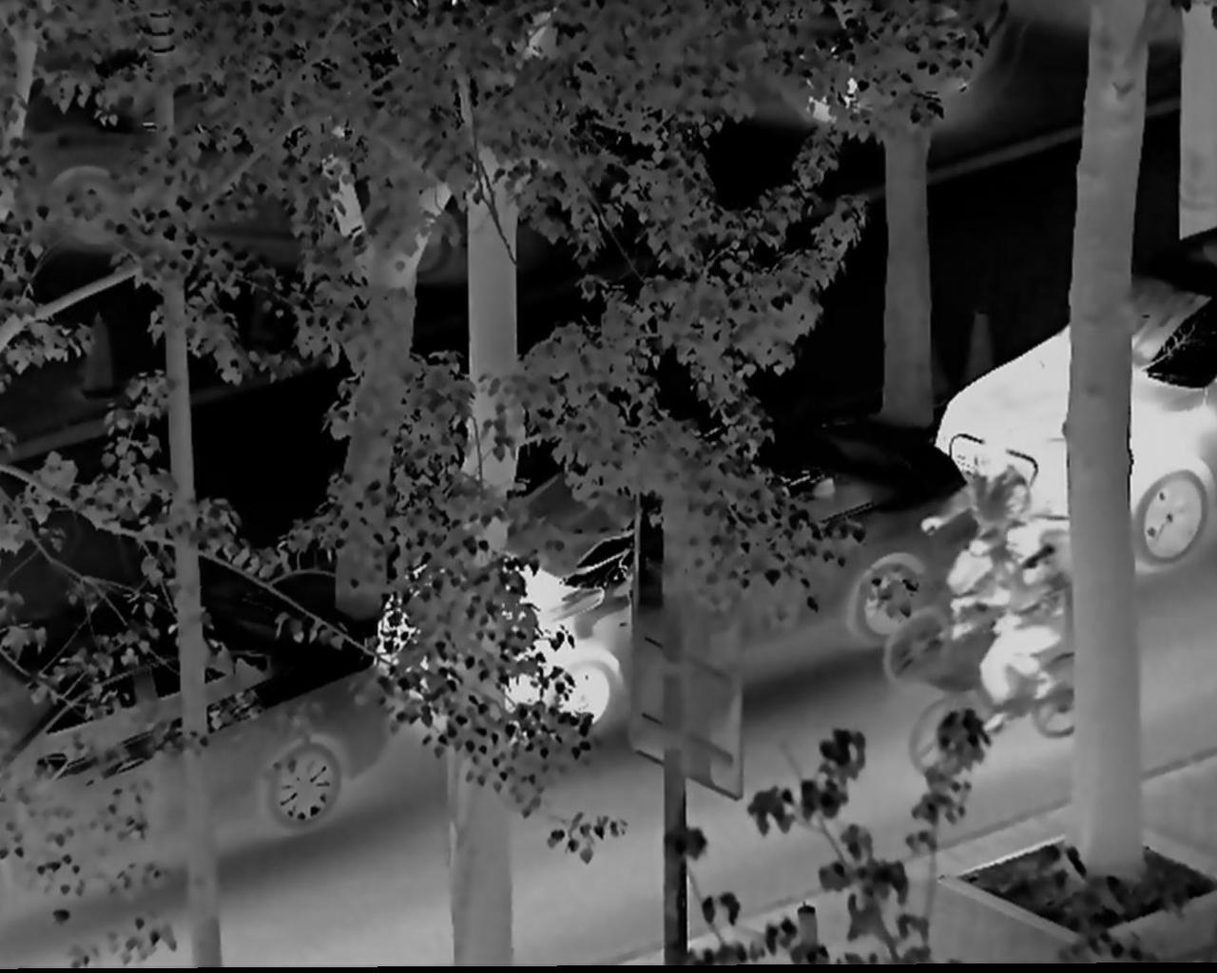person: (933, 437, 1046, 634), (971, 525, 1078, 729)
